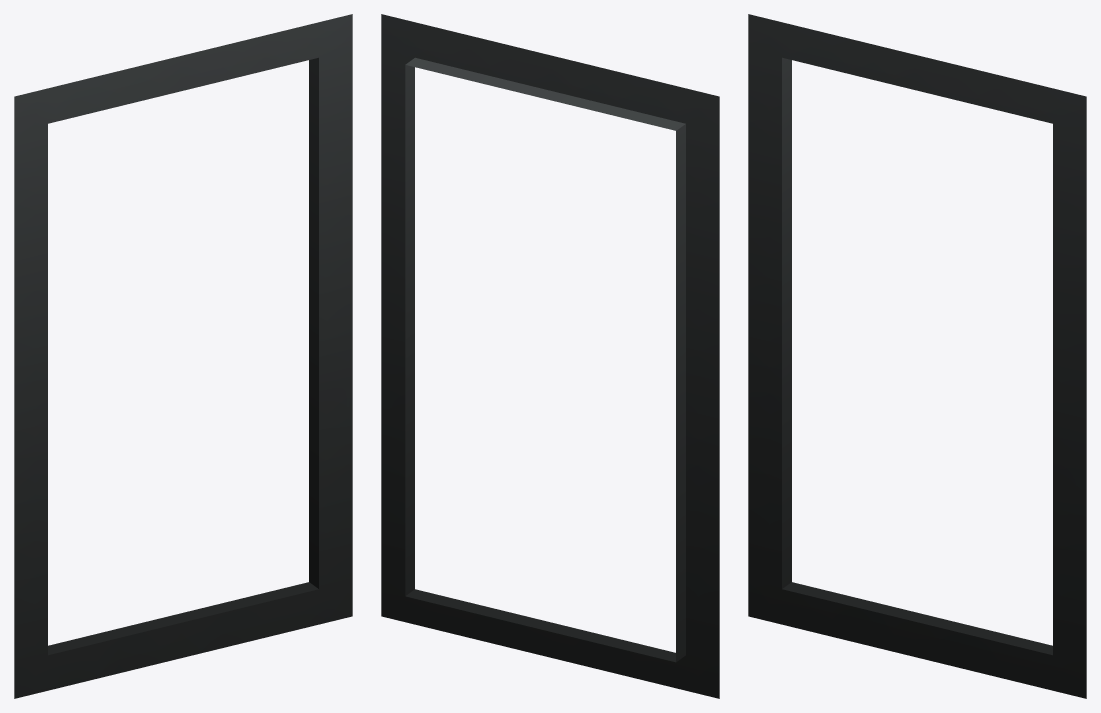
Rendered from Wall_3m_A_Window_A_Frame_A.fbx.
The picture shows the model from 3 angles, left to right: view 1: azimuth 30°, elevation 25°; view 2: azimuth 150°, elevation 25°; view 3: azimuth 330°, elevation 25°; orthographic projection.
Visible parts, largest first — view 1: Wall_3m_A_Window_A_Frame_A; view 2: Wall_3m_A_Window_A_Frame_A; view 3: Wall_3m_A_Window_A_Frame_A.
Part boxes in pixels (x1=…): Wall_3m_A_Window_A_Frame_A: x1=14, y1=14, x2=352, y2=698; Wall_3m_A_Window_A_Frame_A: x1=381, y1=14, x2=719, y2=698; Wall_3m_A_Window_A_Frame_A: x1=748, y1=14, x2=1086, y2=698.
Size of the model in its own units: 100 by 170 by 5.
